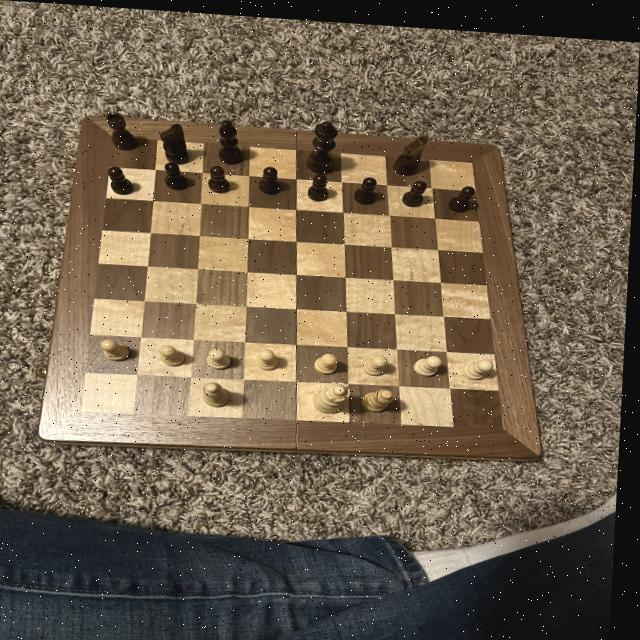bishop: (216, 113, 250, 165)
black-bishop: (306, 114, 346, 172)
black-king: (392, 128, 432, 173), (161, 117, 194, 165)
black-knight: (446, 177, 479, 210), (161, 157, 194, 190), (352, 169, 384, 203), (259, 160, 288, 194), (109, 164, 139, 196), (402, 173, 432, 204), (308, 168, 335, 200), (209, 161, 236, 193)
black-queen: (102, 106, 142, 151)
black-rook: (361, 381, 401, 411), (204, 377, 237, 405)
white-knight: (465, 349, 501, 376), (102, 335, 135, 362), (161, 339, 192, 366), (416, 346, 447, 373), (209, 342, 240, 368), (316, 346, 344, 371), (365, 347, 393, 372), (258, 344, 285, 369)
white-pawn: (313, 375, 358, 411)
